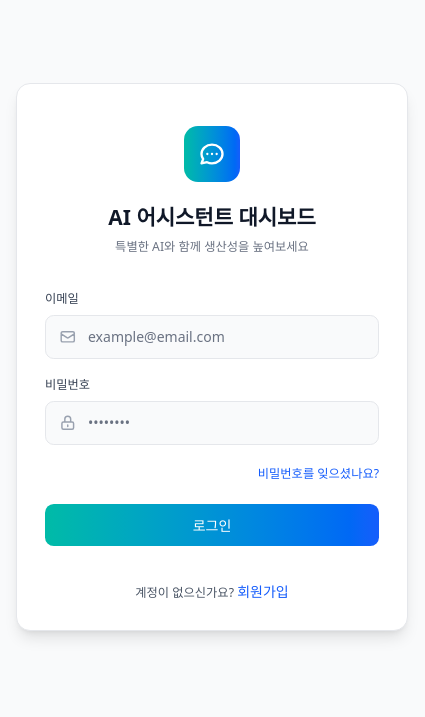
인증 플로우 › 회원가입 폼이 정상적으로 표시된다
회원가입 탭 클릭
Click the button "회원가입" at [263, 592], box [237,581,289,602]
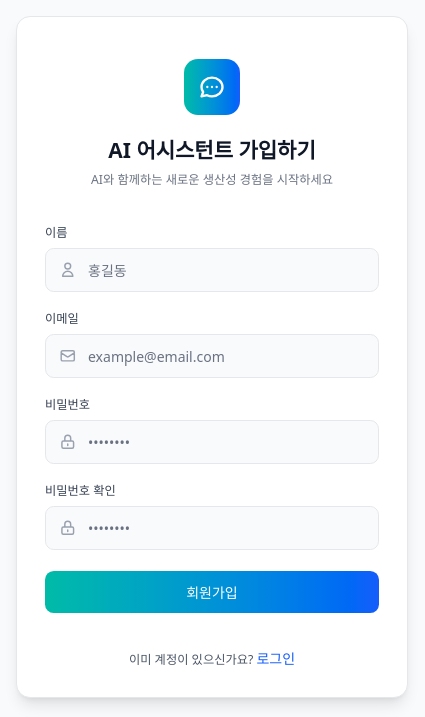
Check: the heading "AI 어시스턴트 가입하기" is shown, box [108,136,316,164]
Check: the field with placeholder "홍길동" is shown, box [45,248,379,292]
Check: the button "회원가입" is shown, box [45,571,379,613]
